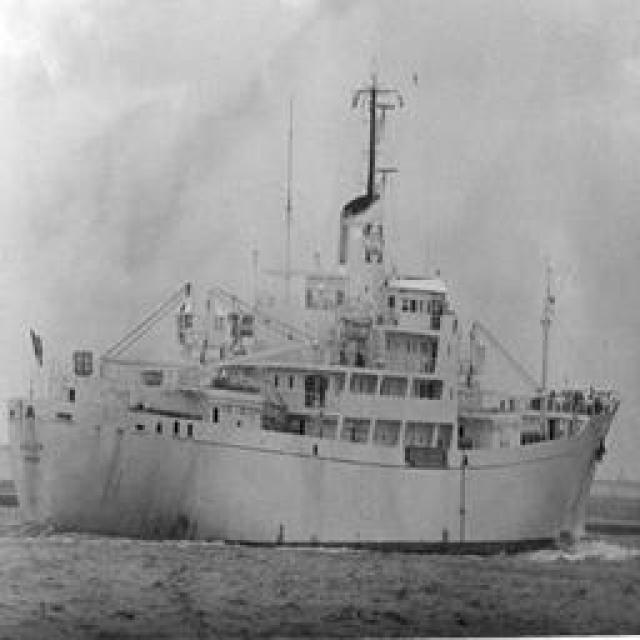Ship: (1, 176, 618, 549)
